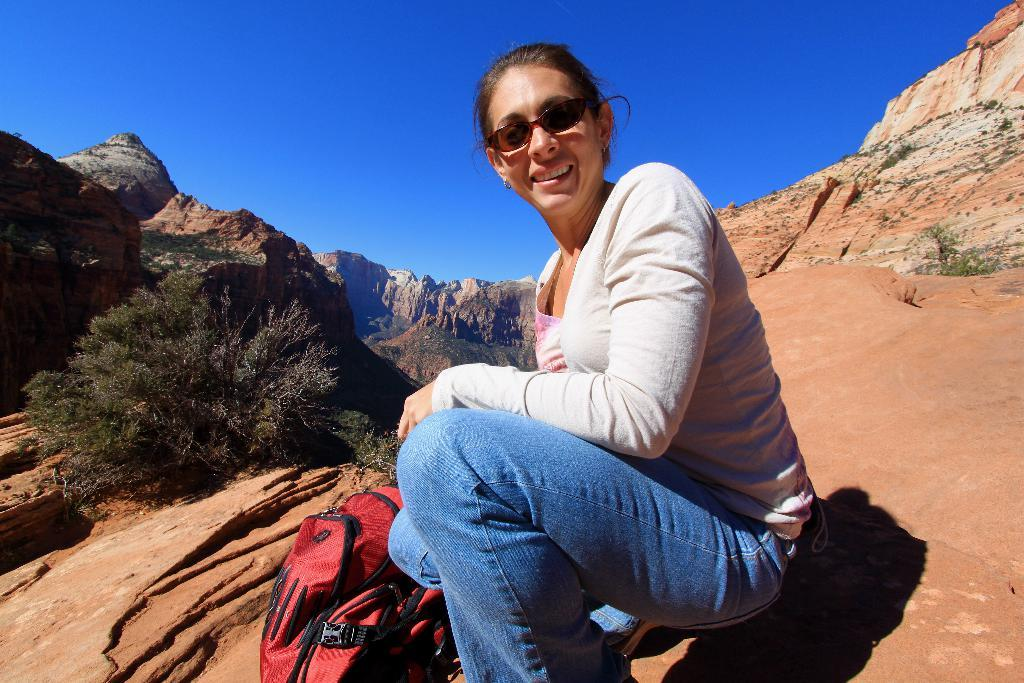no_helmet: (468, 134, 590, 168)
none: (514, 238, 798, 448)
